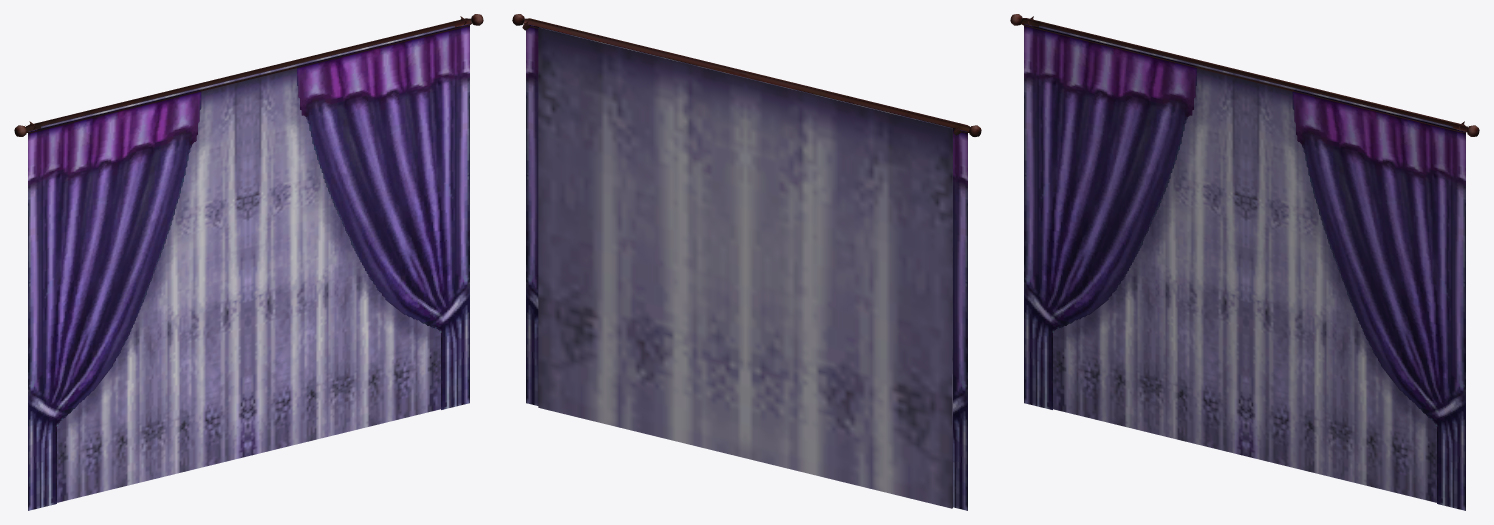
Rendered from furni_0201136.FBX.
The picture shows the model from 3 angles, left to right: view 1: azimuth 30°, elevation 25°; view 2: azimuth 150°, elevation 25°; view 3: azimuth 330°, elevation 25°; orthographic projection.
Visible parts, largest first — view 1: furni_0201136; view 2: furni_0201136; view 3: furni_0201136.
Boxes of the visible parts, box(x1,y1,x2,y2) form: furni_0201136: box(14, 14, 483, 510); furni_0201136: box(512, 14, 981, 510); furni_0201136: box(1010, 14, 1479, 510).
Bounding box in the file's own units: 353 × 279 × 12.24.
Materials: 2 (2 with a texture image).
